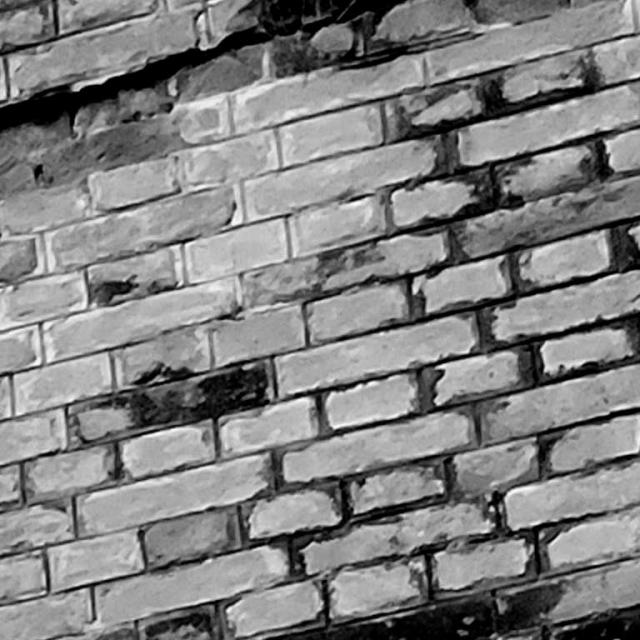crack: (1, 1, 405, 127), (335, 51, 402, 70)
